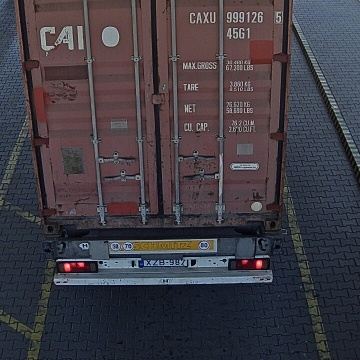serial_id: (189, 11, 282, 23)
